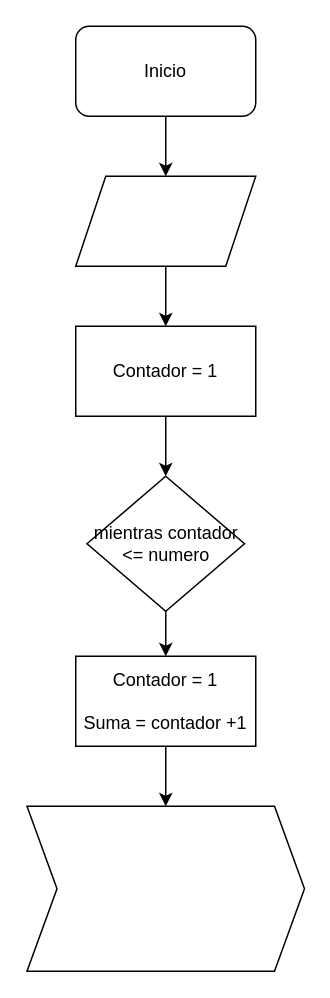
The diagram is 330 pixels wide and 998 high, and some of its shapes have lost their labels. Each missing label, with the centre of its shape:
Ingrese un numero: [165,220]
Mostrar "Resultado de la suma es: suma: [165,888]
